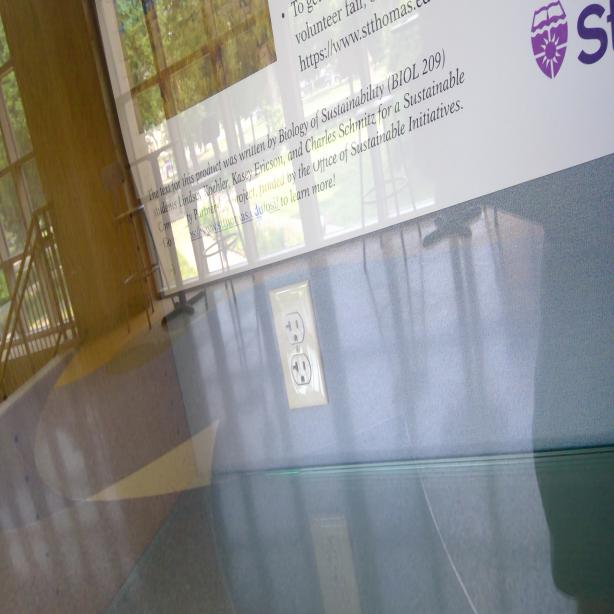typeb: (284, 315, 304, 346), (292, 358, 310, 385)
